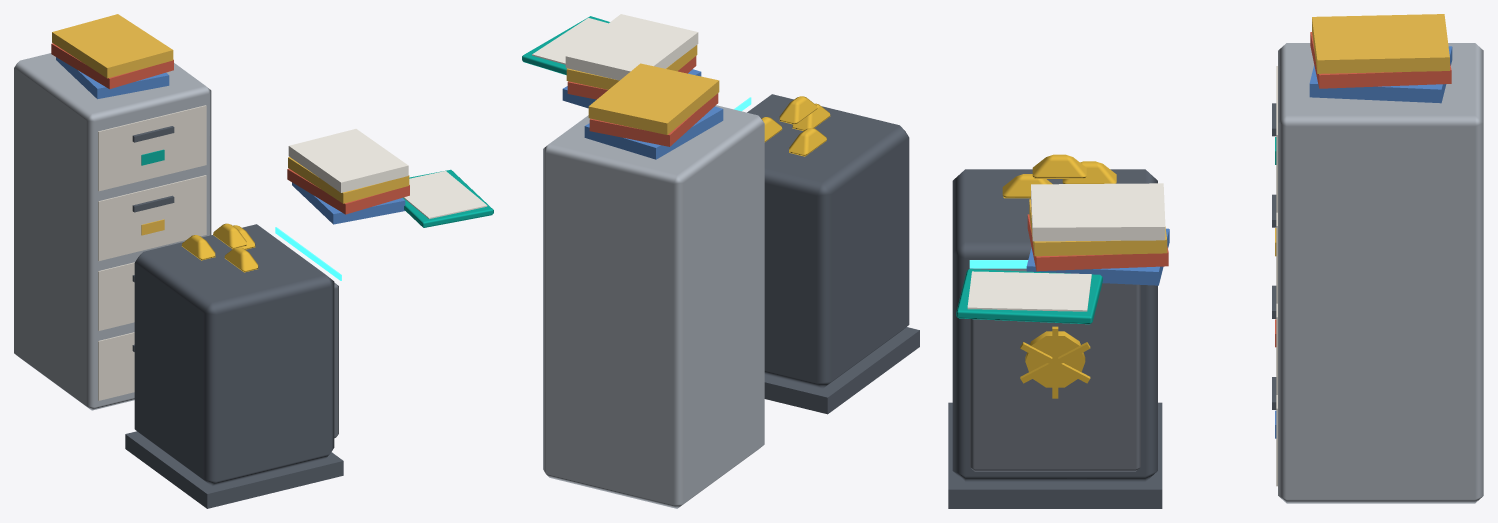
Rendered from station_special_ausstattung_1_3.glb.
The picture shows the model from 3 angles, left to right: view 1: azimuth 30°, elevation 25°; view 2: azimuth 150°, elevation 25°; view 3: azimuth 270°, elevation 25°; orthographic projection. The views are drawn at different scales.
Visible parts, largest first — view 1: station_special_ausstattung_1_3; view 2: station_special_ausstattung_1_3; view 3: station_special_ausstattung_1_3.
Boxes of the visible parts, left/top/right/bottom form: station_special_ausstattung_1_3: left=14, top=14, right=493, bottom=508; station_special_ausstattung_1_3: left=522, top=14, right=919, bottom=508; station_special_ausstattung_1_3: left=948, top=14, right=1483, bottom=508.
Size of the model in its own units: 1.06 by 1.11 by 1.25.
